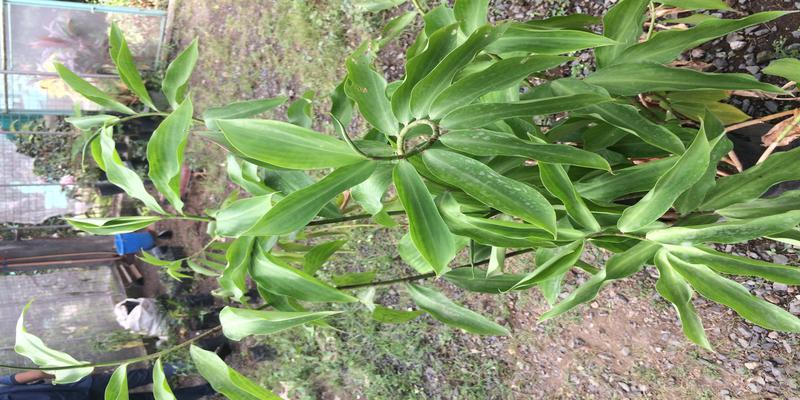Insulin: (91, 66, 786, 231)
